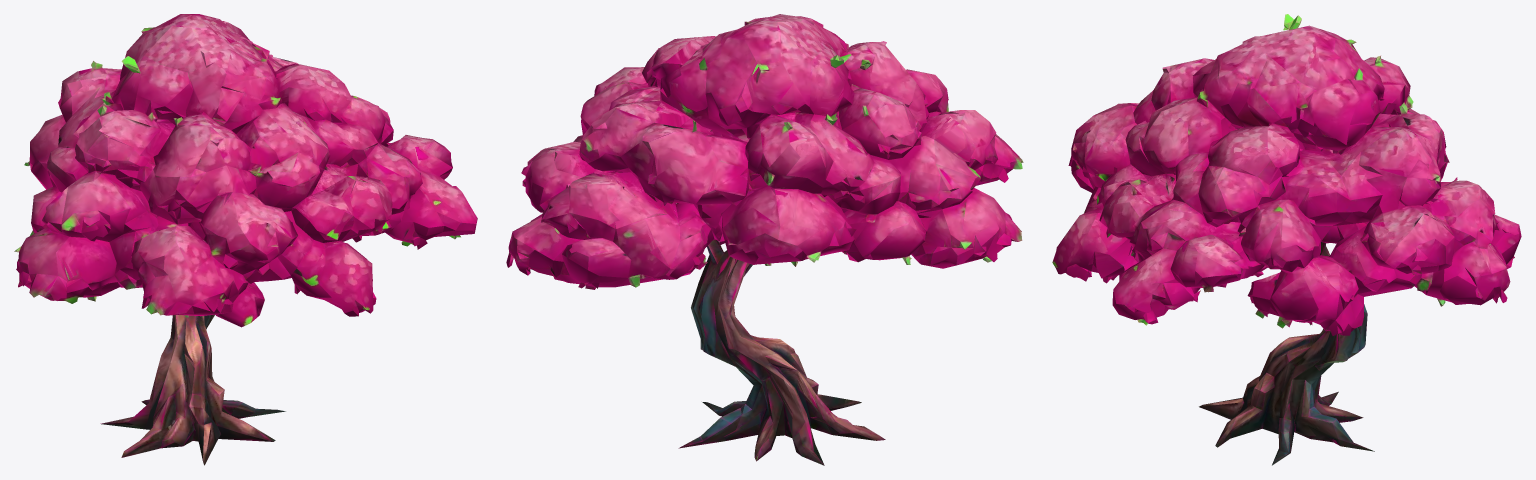
File: decor_tree_blossom_grand.glb
3 views of the same model, side by side, from view 1: azimuth 30°, elevation 25°; view 2: azimuth 150°, elevation 25°; view 3: azimuth 270°, elevation 25° (orthographic). The views are drawn at different scales.
Visible parts, largest first — view 1: decor_tree_blossom_grand; view 2: decor_tree_blossom_grand; view 3: decor_tree_blossom_grand.
Part boxes in pixels (x1,y1,x2,y2): decor_tree_blossom_grand: (14,14,477,465); decor_tree_blossom_grand: (506,14,1023,465); decor_tree_blossom_grand: (1052,14,1521,465).
Bounding box in the file's own units: 5.19 × 4.79 × 5.14.
1 material, 1 textured.
